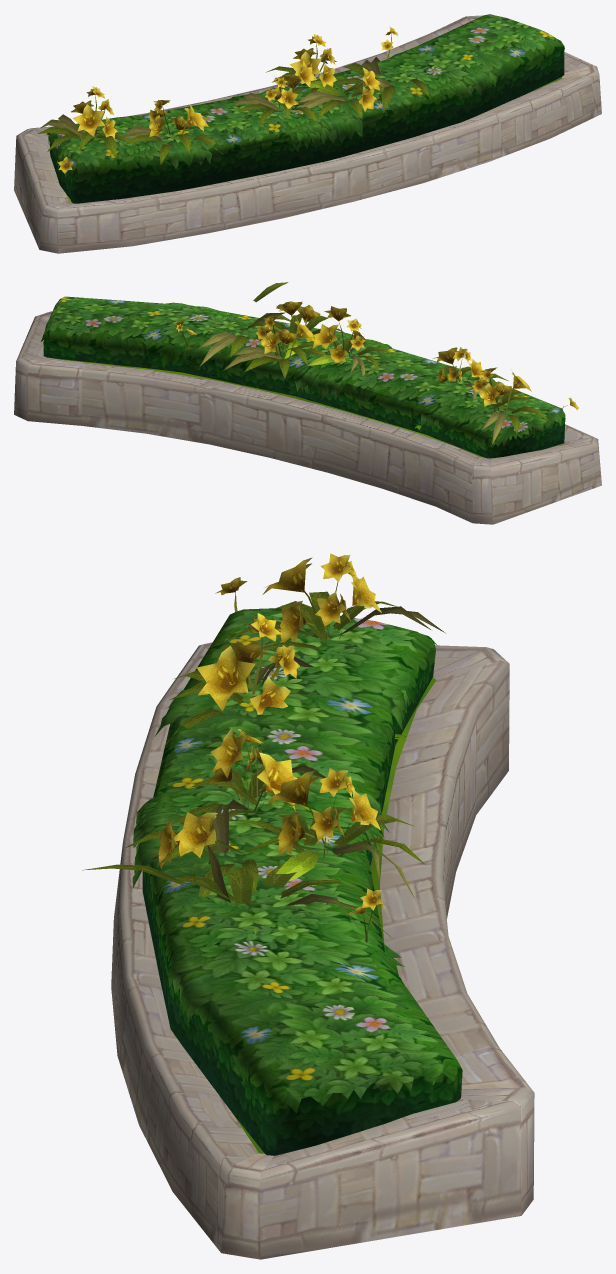
The picture shows the model from 3 angles, top to bottom: view 1: azimuth 30°, elevation 25°; view 2: azimuth 150°, elevation 25°; view 3: azimuth 270°, elevation 25°; orthographic projection. The views are drawn at different scales.
Parts seen in each view (by area): view 1: wq_wj015_02; view 2: wq_wj015_02; view 3: wq_wj015_02.
Part boxes in pixels (<box>): wq_wj015_02: <box>14,14,601,253</box>; wq_wj015_02: <box>14,282,601,524</box>; wq_wj015_02: <box>82,553,534,1259</box>.
Size of the model in its own units: 569 by 116 by 199.
